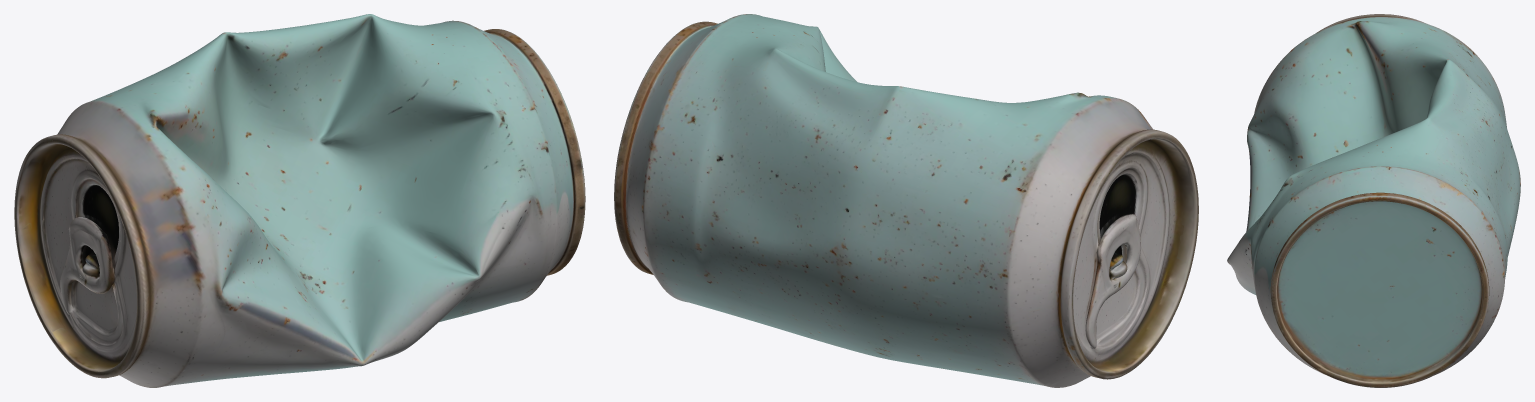
Rendered from can.glb.
3 views of the same model, side by side, from view 1: azimuth 30°, elevation 25°; view 2: azimuth 150°, elevation 25°; view 3: azimuth 270°, elevation 25° (orthographic). The views are drawn at different scales.
Parts seen in each view (by area): view 1: material; view 2: material; view 3: material.
Part boxes in pixels (box(x1,y1,x2,y2)): material: box(14, 14, 585, 387); material: box(614, 14, 1198, 387); material: box(1227, 14, 1520, 387).
Bounding box in the file's own units: 1.06 × 0.6544 × 0.7189.
Materials: 1 (1 with a texture image).
